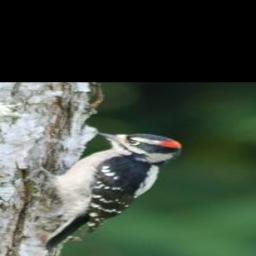Woodpecker: (31, 128, 186, 253)
